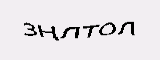З: (22, 21, 37, 38)
Л: (59, 25, 82, 40), (117, 21, 137, 36)
О: (98, 21, 116, 37)
Т: (81, 23, 98, 39)
Ң: (37, 23, 58, 41)
